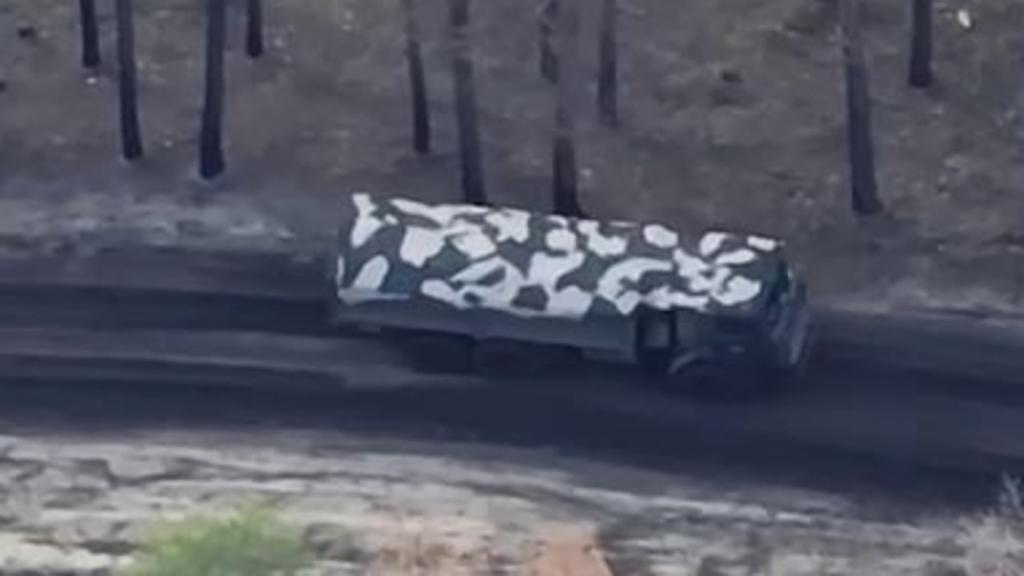TRUCK: (332, 182, 814, 397)
